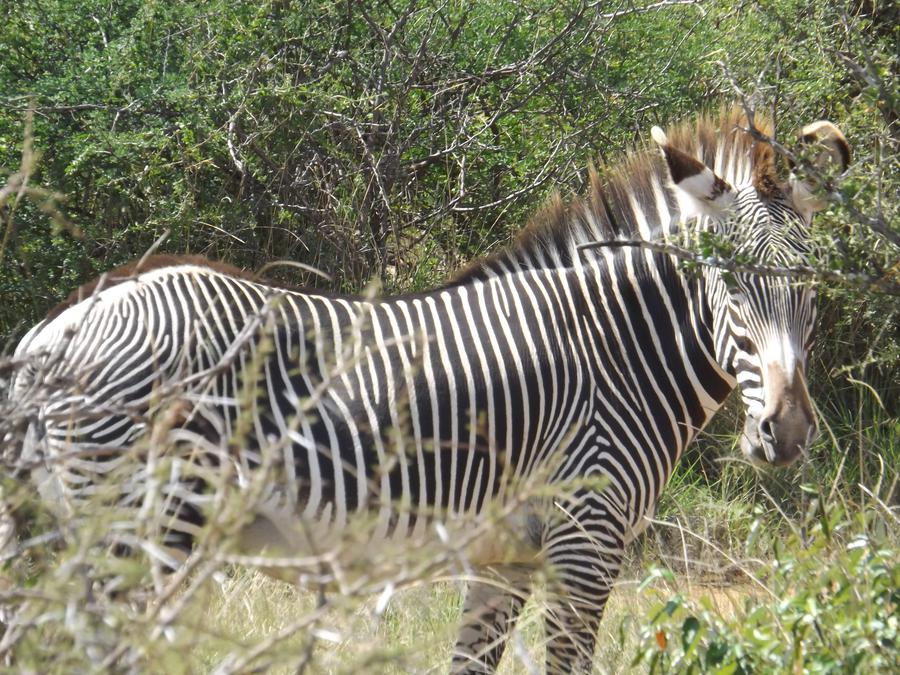zebra_grevys: (30, 230, 635, 552)
